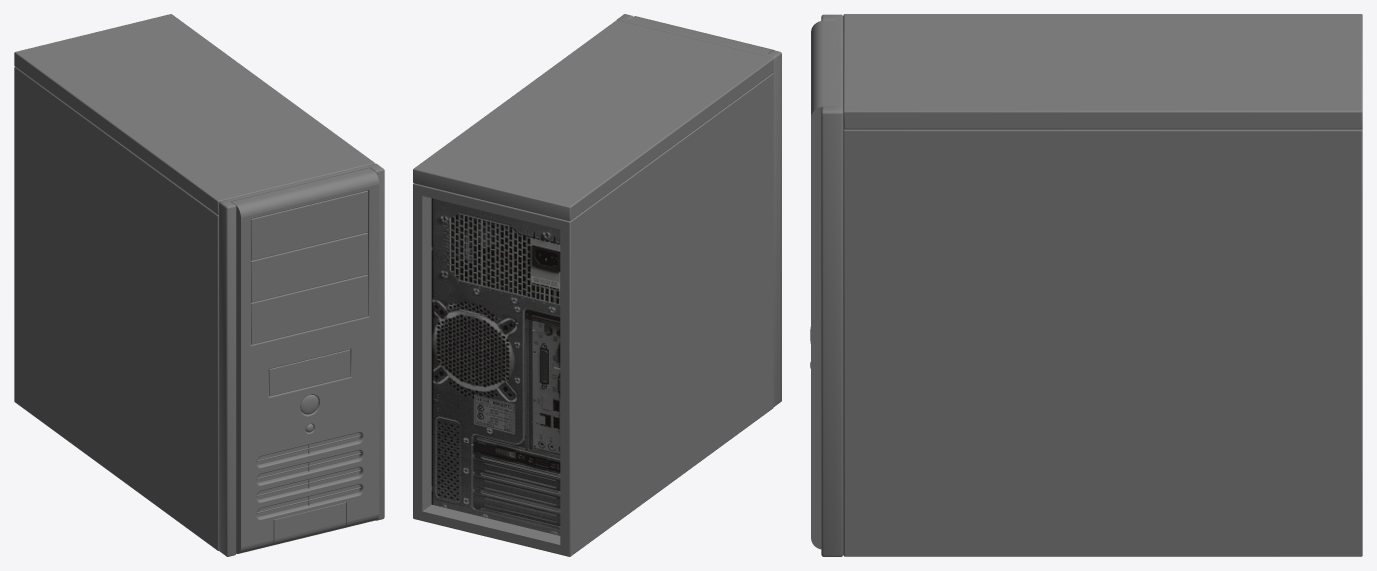
Rendered from host.gltf.
The picture shows the model from 3 angles, left to right: view 1: azimuth 30°, elevation 25°; view 2: azimuth 150°, elevation 25°; view 3: azimuth 270°, elevation 25°; orthographic projection. The views are drawn at different scales.
Visible parts, largest first — view 1: obj_02-Default, obj_01, obj_03; view 2: obj_02-Default, obj_02-材质.1, obj_01, obj_03; view 3: obj_02-Default, obj_01, obj_03.
Boxes of the visible parts, x1,y1,x2,y2 form: obj_02-Default: (14, 14, 374, 550); obj_01: (219, 163, 384, 556); obj_03: (231, 168, 379, 553); obj_02-Default: (413, 20, 773, 556); obj_02-材质.1: (431, 198, 560, 535); obj_01: (617, 14, 781, 406); obj_03: (630, 16, 774, 53); obj_02-Default: (843, 14, 1362, 556); obj_01: (810, 14, 843, 556); obj_03: (811, 20, 835, 549).
Size of the model in its own units: 186 by 394 by 442.
Materials: 2 (1 with a texture image).
